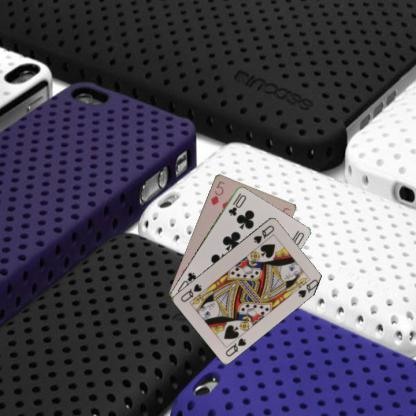10c: (226, 190, 248, 217)
5d: (208, 178, 226, 206)
Qs: (223, 335, 248, 358), (250, 222, 275, 244)
